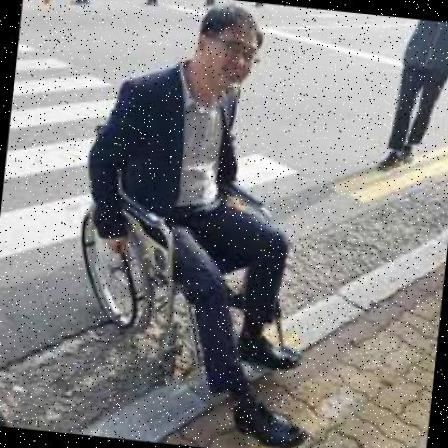wheel: (60, 0, 346, 447)
